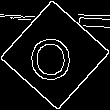O_N: (32, 28, 78, 82)
